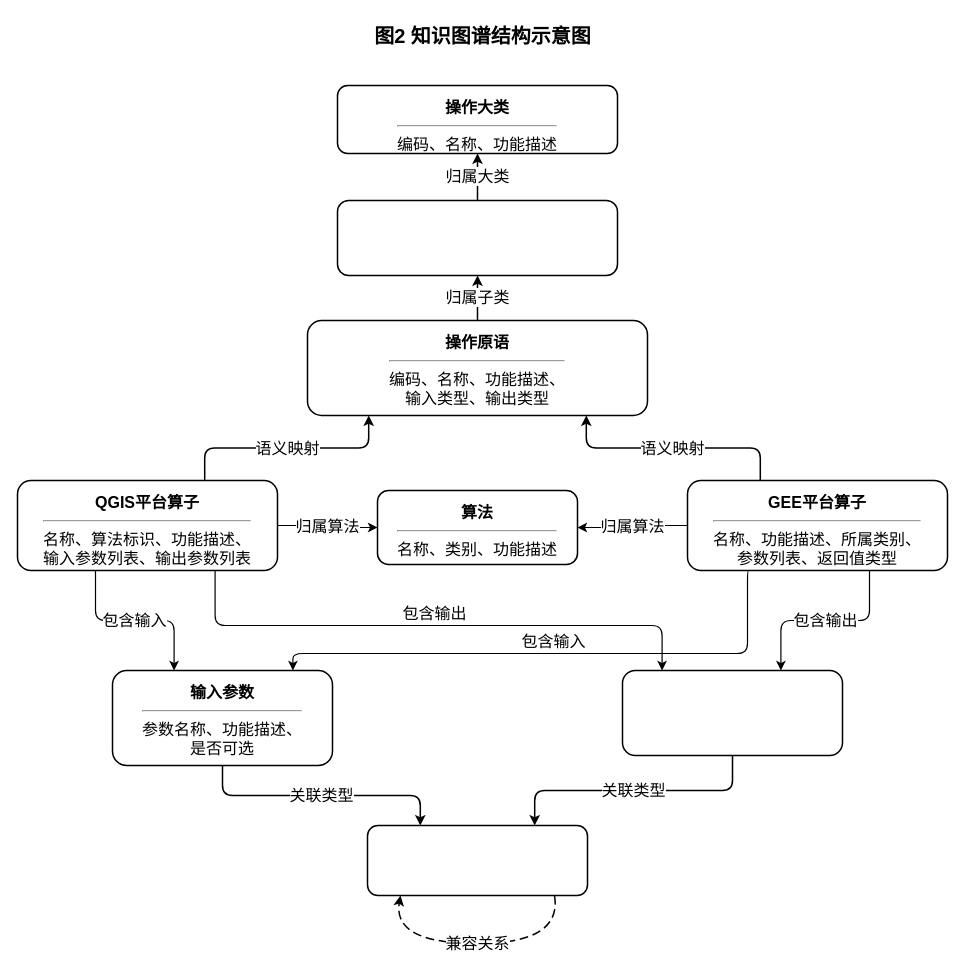
The diagram is 966 pixels wide and 970 high, and some of its shapes have lost their labels. The centre of each missing label's shape, as x and y in pixels:
操作子类 编码、名称、功能描述: the point at 477,237
数据类型 名称、类别、数据格式: the point at 477,860
输出参数 参数名称、功能描述: the point at 732,712
